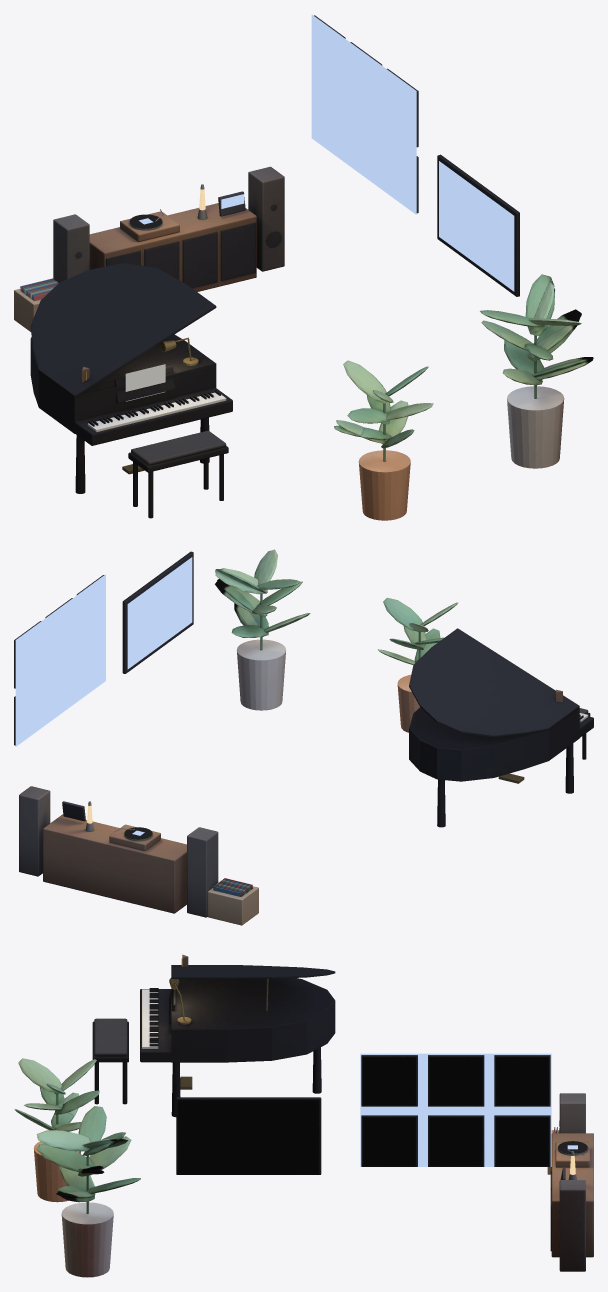
File: piano.glb
3 renders of one model, top to bottom at view 1: azimuth 30°, elevation 25°; view 2: azimuth 150°, elevation 25°; view 3: azimuth 270°, elevation 25°, orthographic. The views are drawn at different scales.
Visible parts, largest first — view 1: piano_baked, screen_albums, screen_wall, screen_sheet; view 2: piano_baked, screen_albums, screen_wall; view 3: piano_baked, screen_albums.
Boxes of the visible parts, box(x1,y1,x2,y2) form: piano_baked: box(14, 15, 593, 520); screen_albums: box(311, 14, 416, 214); screen_wall: box(439, 161, 514, 291); screen_sheet: box(125, 364, 165, 401); piano_baked: box(14, 549, 593, 925); screen_albums: box(15, 574, 105, 746); screen_wall: box(127, 557, 192, 669); piano_baked: box(14, 954, 593, 1277); screen_albums: box(360, 1053, 551, 1166).
Bounding box in the file's own units: 4.85 × 2.5 × 5.76.
8 materials, 1 textured.
